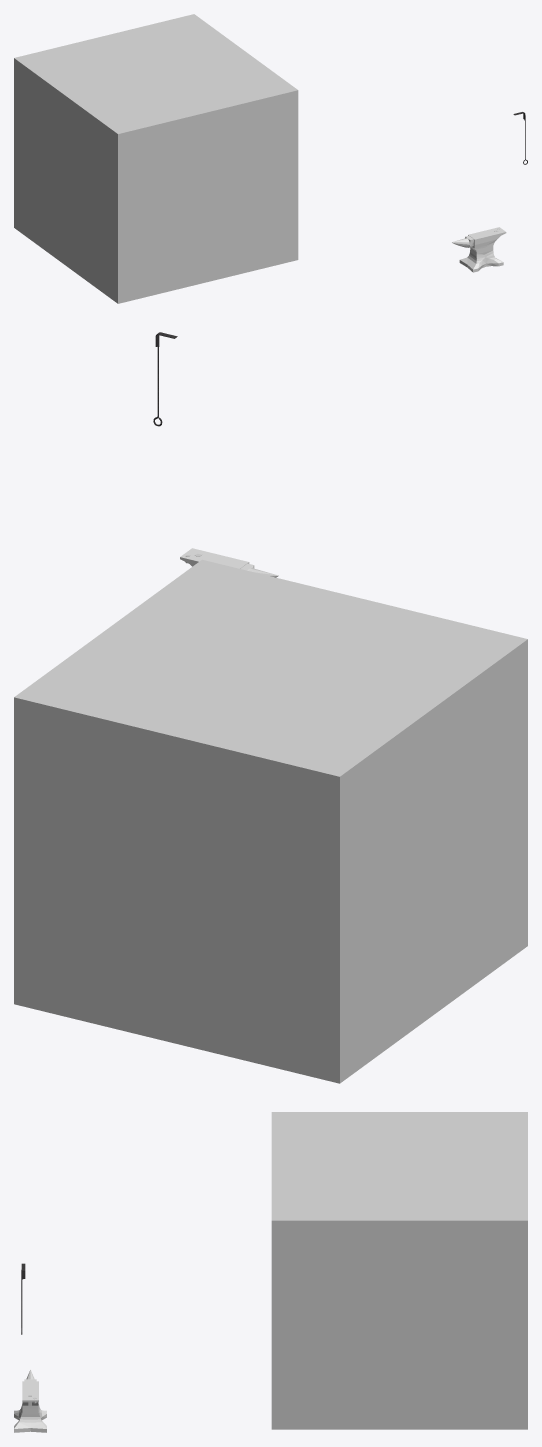
Rendered from smithtsrake.dae.
The picture shows the model from 3 angles, top to bottom: view 1: azimuth 30°, elevation 25°; view 2: azimuth 150°, elevation 25°; view 3: azimuth 270°, elevation 25°; orthographic projection. The views are drawn at different scales.
Parts seen in each view (by area): view 1: Cube_004, Cube_002; view 2: Cube_004, Cube_002; view 3: Cube_004, Cube_002.
Boxes of the visible parts, bbox=[...] form: Cube_004: bbox=[14, 14, 298, 303]; Cube_002: bbox=[452, 227, 506, 272]; Cube_004: bbox=[14, 559, 527, 1083]; Cube_002: bbox=[180, 548, 278, 577]; Cube_004: bbox=[271, 1112, 527, 1429]; Cube_002: bbox=[14, 1370, 46, 1432].
Bounding box in the file's own units: 3.42 × 4.01 × 2.02.
1 material, 1 textured.
